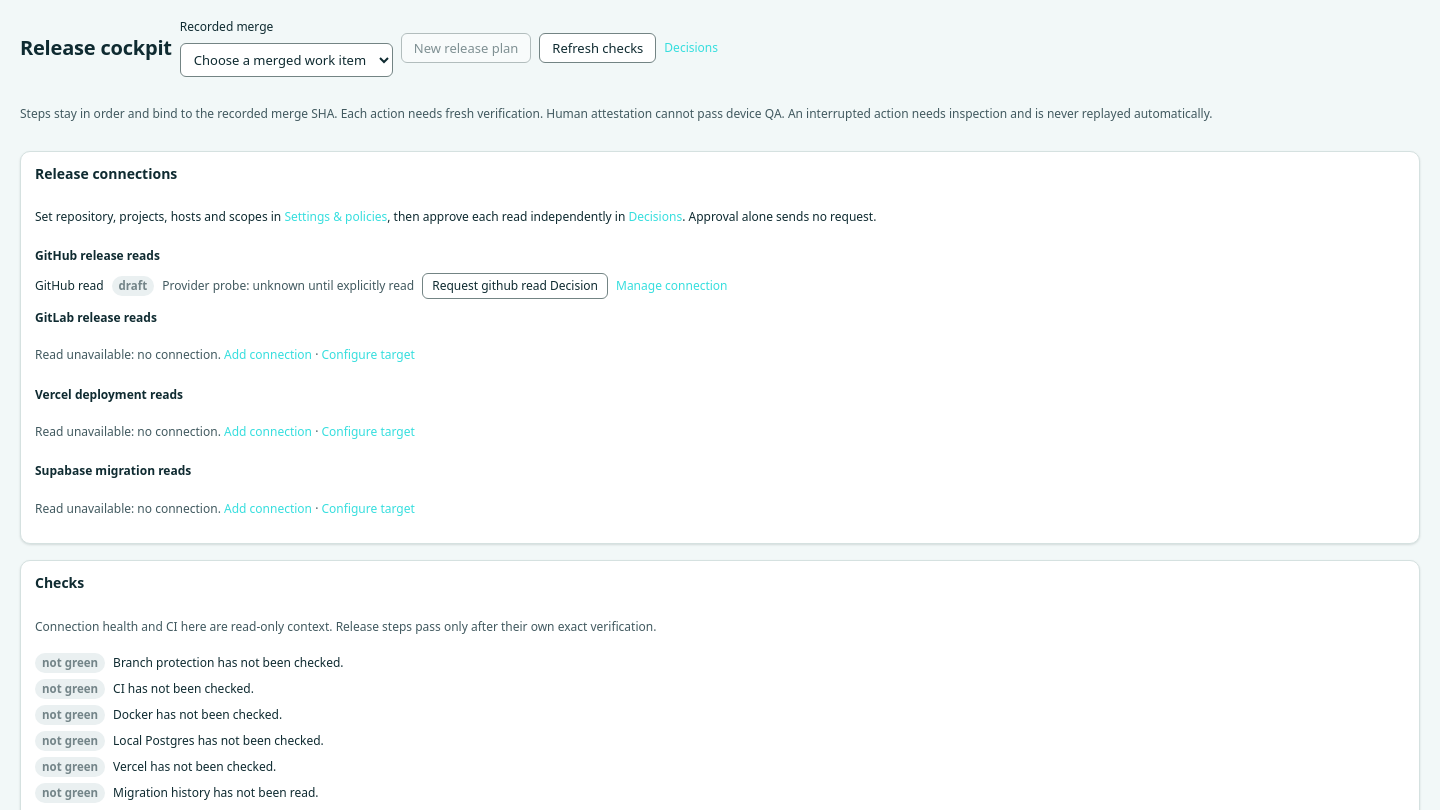
release connector UI › requests a read Decision from the cockpit without approving or probing it
Click the button "Request github read Decision".
click(515, 286)  # box [422,273,608,299]
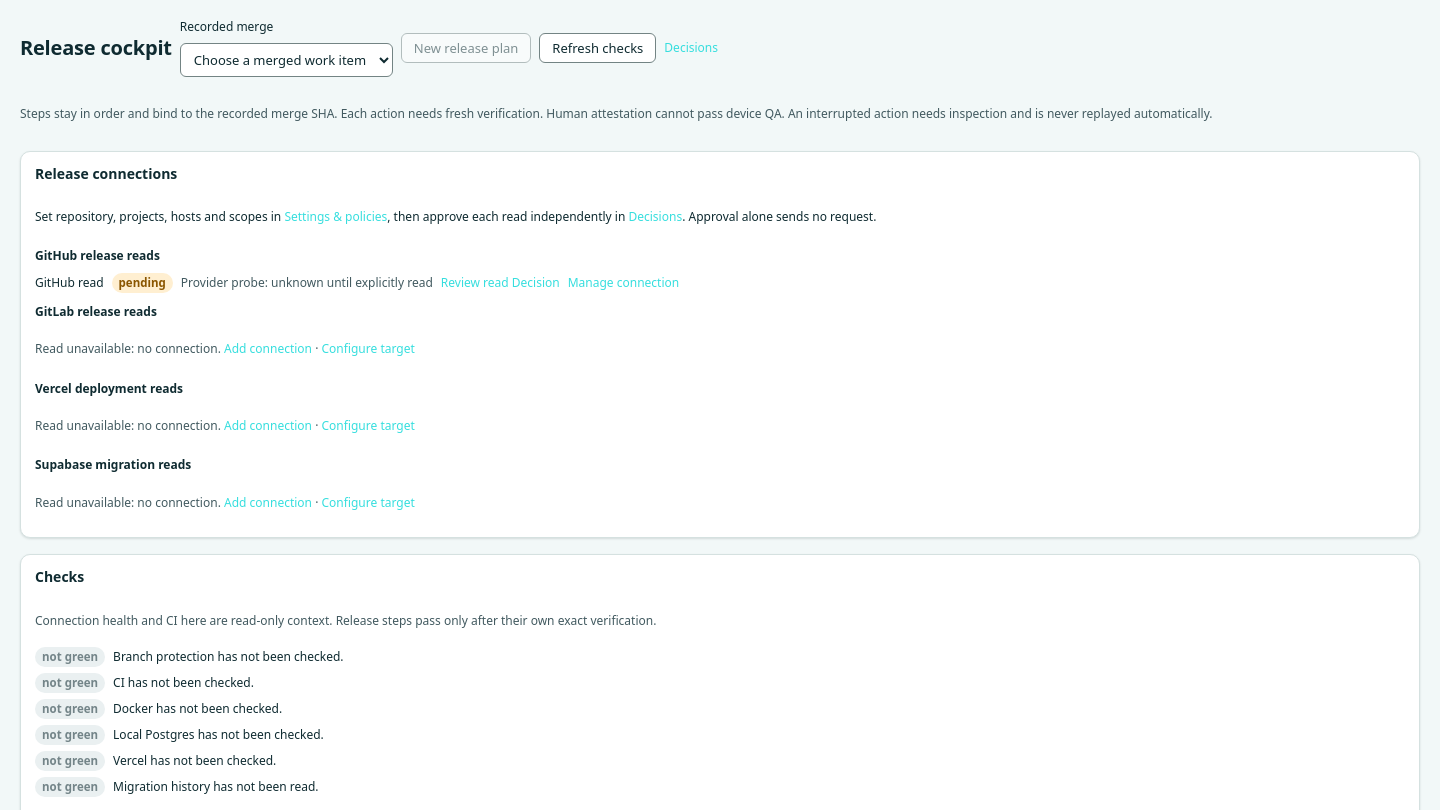
Expected: the text "Provider probe: unknown until explicitly read" is shown once, [181,274,433,292]
Expected: the link "Review read Decision" is shown, [441,274,560,292]
